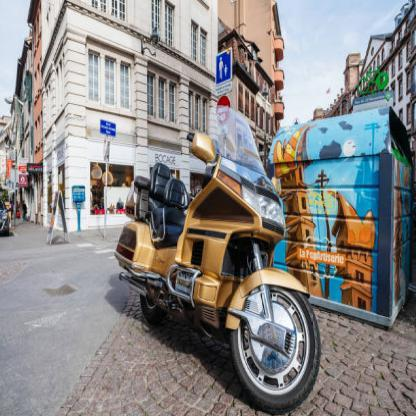Motorcycle: (117, 112, 324, 414)
